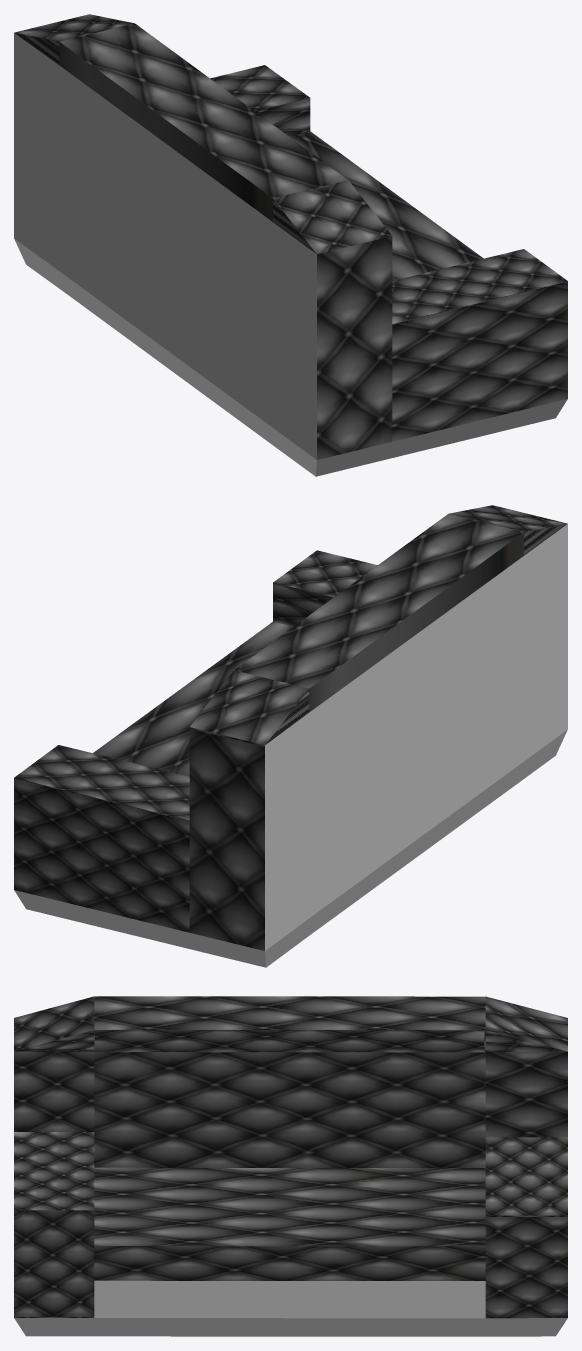
The model's file is sofa.fbx.
The picture shows the model from 3 angles, top to bottom: view 1: azimuth 30°, elevation 25°; view 2: azimuth 150°, elevation 25°; view 3: azimuth 270°, elevation 25°; orthographic projection. The views are drawn at different scales.
Visible parts, largest first — view 1: Cube; view 2: Cube; view 3: Cube.
Boxes of the visible parts, box(x1,y1,x2,y2) form: Cube: box(14, 14, 567, 476); Cube: box(14, 505, 567, 967); Cube: box(14, 996, 567, 1336).
Size of the model in its own units: 231 by 221 by 481.
